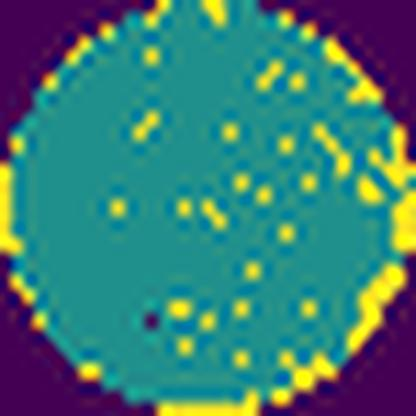Edge-Loc: (341, 260, 409, 354), (327, 35, 382, 110), (275, 344, 344, 401), (367, 122, 416, 191), (151, 391, 263, 416), (0, 164, 26, 256), (387, 188, 416, 262)
